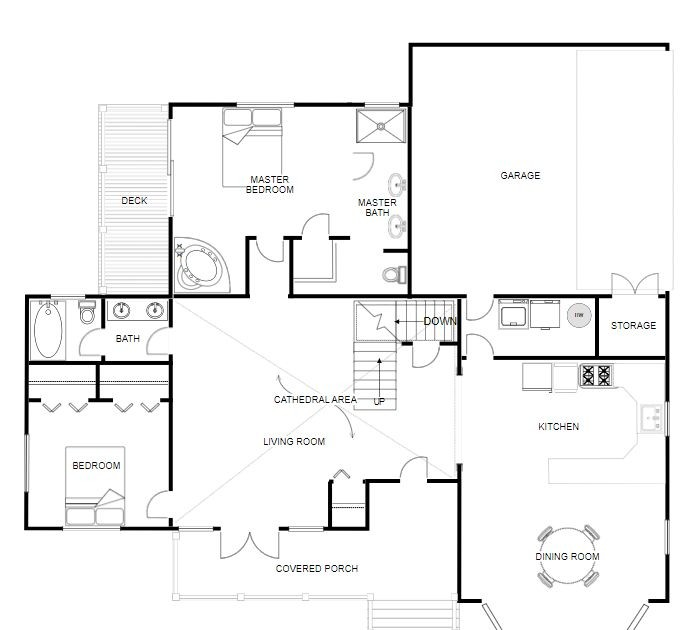door: (217, 526, 282, 568), (608, 259, 665, 295), (462, 287, 500, 329), (135, 488, 175, 521), (251, 232, 284, 266), (394, 454, 431, 482), (408, 339, 438, 372), (461, 333, 500, 357), (304, 209, 335, 239), (142, 328, 171, 356), (76, 331, 107, 356)
room: (441, 284, 678, 612), (404, 23, 674, 305), (159, 272, 465, 482), (156, 92, 418, 298), (11, 294, 171, 520)
wall: (404, 36, 419, 301), (414, 35, 667, 49), (80, 290, 247, 304), (454, 466, 467, 606), (287, 289, 467, 299), (290, 92, 366, 115), (660, 436, 679, 520), (166, 349, 177, 489), (162, 96, 238, 115), (165, 221, 177, 331), (485, 290, 615, 300), (21, 358, 35, 440), (23, 359, 166, 367), (451, 292, 464, 378), (121, 520, 186, 535), (242, 233, 257, 297), (659, 293, 667, 400), (14, 518, 64, 534), (364, 476, 378, 529), (20, 486, 38, 527), (325, 477, 335, 532), (500, 358, 667, 361), (660, 553, 669, 602), (320, 234, 355, 246), (95, 367, 106, 404), (385, 244, 406, 258)
window: (160, 116, 177, 218), (17, 288, 29, 370), (18, 440, 38, 489), (235, 98, 295, 112), (365, 92, 400, 115), (51, 285, 87, 305), (659, 396, 674, 433), (660, 517, 675, 550)
